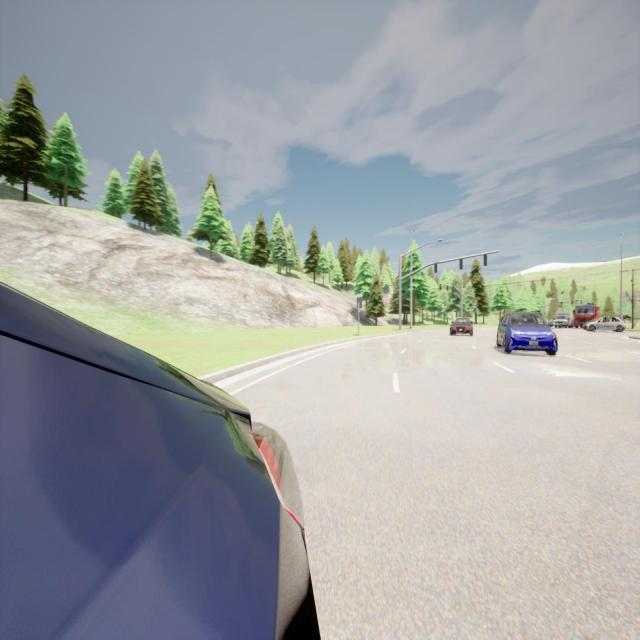Traffic_Signs: (357, 297, 362, 309)
Vehicle: (0, 284, 320, 639), (493, 308, 559, 356), (581, 312, 628, 334), (571, 301, 599, 329), (448, 316, 476, 338), (552, 311, 573, 329)
traffic_light: (460, 258, 463, 270), (484, 254, 487, 266), (434, 263, 437, 273), (440, 283, 441, 290), (447, 286, 448, 292)
